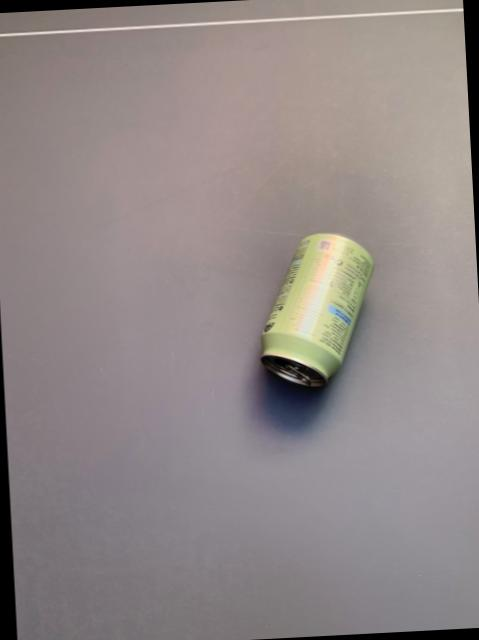metal: (260, 231, 371, 384)
